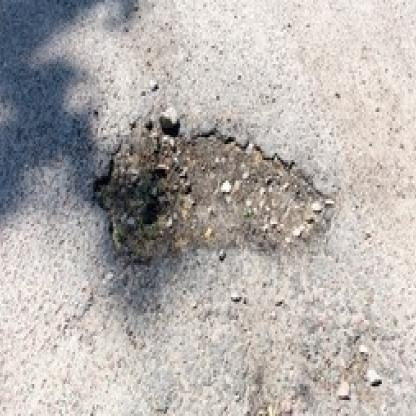pothole: (88, 115, 333, 258)
